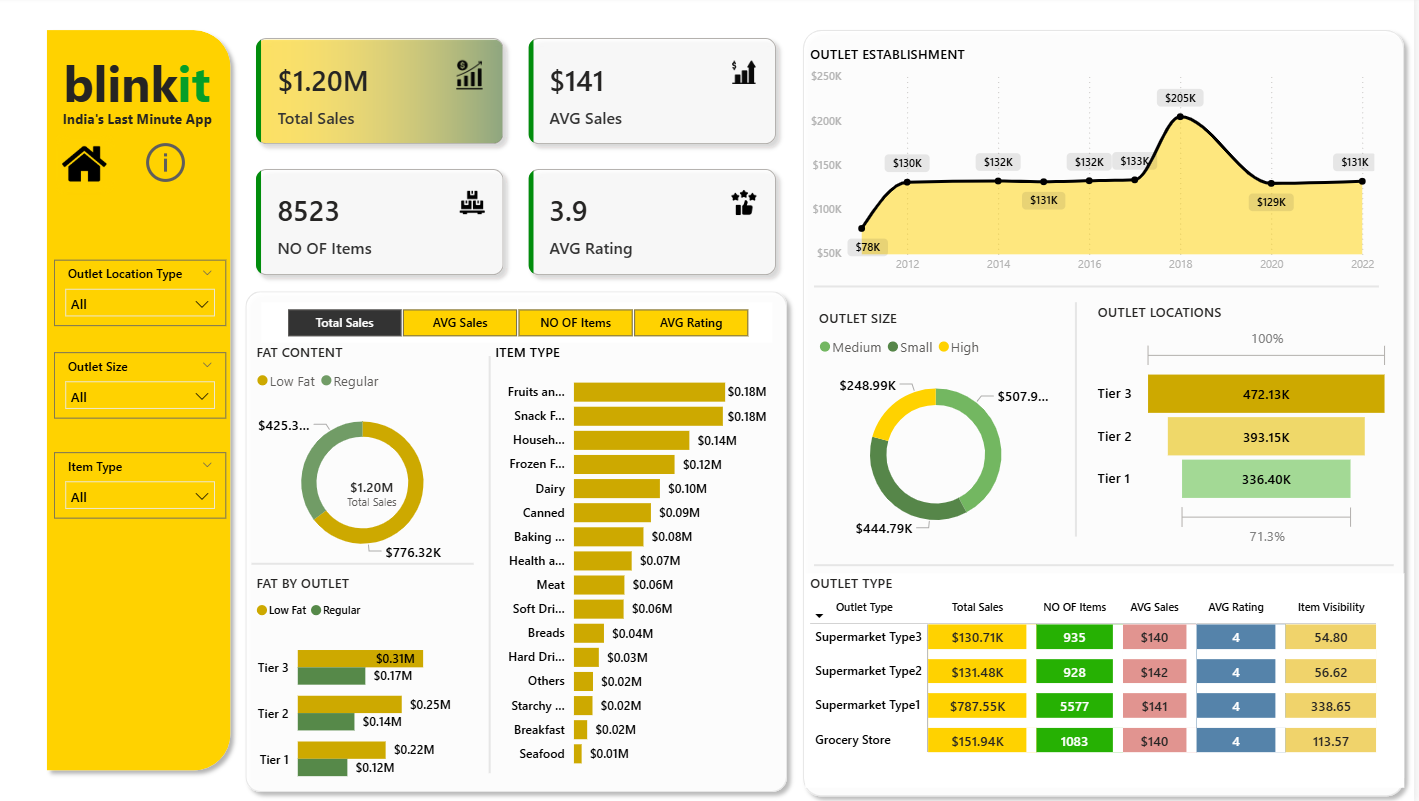

What the dashboard file says about the page in this screenshot:
{"tool":"powerbi","page":{"name":"Page 1","canvas":[1400,800],"ordinal":0},"visuals":[{"type":"shape","box":[38.9,24.1,199.7,750.7],"z":0},{"type":"textbox","box":[52.3,48.3,168.9,77.7],"z":1000},{"type":"textbox","box":[37.5,107.2,199.7,28.2],"z":2000},{"type":"cardVisual","fields":{"Data":["BlinkIT Grocery Data.Total Sales","BlinkIT Grocery Data.AVG Sales","BlinkIT Grocery Data.NO OF Items","BlinkIT Grocery Data.AVG Rating"]},"box":[237.3,24.1,549.6,269.4],"z":3000},{"type":"shape","box":[234.6,282.8,553.6,513.4],"z":4000},{"type":"slicer","fields":{"Values":["Metrics.Metrics"]},"box":[260.1,303,505.4,40.2],"z":5000},{"type":"donutChart","title":"FAT CONTENT","fields":{"Y":["BlinkIT Grocery Data.Total Sales"],"Category":["BlinkIT Grocery Data.Item Fat Content"]},"box":[249.3,343.2,219.8,230.6],"z":6000},{"type":"cardVisual","fields":{"Data":["BlinkIT Grocery Data.Total Sales"]},"box":[289.5,451.7,159.5,81.8],"z":7000},{"type":"clusteredBarChart","title":"FAT BY OUTLET","fields":{"Y":["BlinkIT Grocery Data.Total Sales"],"Category":["BlinkIT Grocery Data.Outlet Location Type"],"Series":["BlinkIT Grocery Data.Item Fat Content"]},"box":[249.3,571,219.8,225.2],"z":8000},{"type":"shape","box":[249.3,550.9,219.8,22.8],"z":9000},{"type":"shape","box":[469.2,356.6,33.5,412.9],"z":10000},{"type":"barChart","title":"ITEM TYPE","fields":{"Y":["BlinkIT Grocery Data.Total Sales"],"Category":["BlinkIT Grocery Data.Item Type"]},"box":[486.6,343.2,278.8,431.6],"z":11000},{"type":"shape","box":[786.9,24.1,612.6,776.1],"z":12000},{"type":"lineChart","title":"OUTLET ESTABLISHMENT ","fields":{"Category":["BlinkIT Grocery Data.Outlet Establishment Year"],"Y":["BlinkIT Grocery Data.Total Sales"]},"box":[797.6,48.3,568.4,234.6],"z":13000},{"type":"shape","box":[807,280.2,559,13.4],"z":14000},{"type":"donutChart","title":"OUTLET SIZE","fields":{"Y":["BlinkIT Grocery Data.Total Sales"],"Category":["BlinkIT Grocery Data.Outlet Size"]},"box":[807,309.7,241.3,241.3],"z":15000},{"type":"shape","box":[1048.3,303,33.5,231.9],"z":16000},{"type":"funnel","title":"OUTLET LOCATIONS","fields":{"Y":["Sum(BlinkIT Grocery Data.Sales)"],"Category":["BlinkIT Grocery Data.Outlet Location Type"]},"box":[1081.8,303,298.9,248],"z":17000},{"type":"shape","box":[807,557.6,573.7,10.7],"z":18000},{"type":"pivotTable","title":"OUTLET TYPE","fields":{"Rows":["BlinkIT Grocery Data.Outlet Type"],"Values":["BlinkIT Grocery Data.Total Sales","BlinkIT Grocery Data.NO OF Items","BlinkIT Grocery Data.AVG Sales","BlinkIT Grocery Data.AVG Rating","Sum(BlinkIT Grocery Data.Item Visibility)"]},"box":[797.6,571,592.5,211.8],"z":19000},{"type":"slicer","fields":{"Values":["BlinkIT Grocery Data.Outlet Location Type"]},"box":[54.3,261.4,170,65.7],"z":20000},{"type":"slicer","fields":{"Values":["BlinkIT Grocery Data.Outlet Size"]},"box":[54.3,352.9,170,65.7],"z":21000},{"type":"slicer","fields":{"Values":["BlinkIT Grocery Data.Item Type"]},"box":[54.3,451.4,170,65.7],"z":22000},{"type":"actionButton","box":[54.3,135.7,60,60],"z":23000},{"type":"actionButton","box":[140,140,100,50],"z":24000}]}

Visuals, with their boxes in screenshot pixels (x1, y1, x2, y2), scaled from the page's 1400x800 canvas onto the 1419x801 screenshot:
shape: select_region(39, 24, 242, 776)
textbox: select_region(53, 48, 224, 126)
textbox: select_region(38, 107, 240, 136)
cardVisual - BlinkIT Grocery Data.Total Sales x BlinkIT Grocery Data.AVG Sales: select_region(241, 24, 798, 294)
shape: select_region(238, 283, 799, 797)
slicer - Metrics.Metrics: select_region(264, 303, 776, 344)
"FAT CONTENT" donutChart: select_region(253, 344, 475, 575)
cardVisual - BlinkIT Grocery Data.Total Sales: select_region(293, 452, 455, 534)
"FAT BY OUTLET" clusteredBarChart: select_region(253, 572, 475, 797)
shape: select_region(253, 552, 475, 574)
shape: select_region(476, 357, 510, 770)
"ITEM TYPE" barChart: select_region(493, 344, 776, 776)
shape: select_region(798, 24, 1418, 800)
"OUTLET ESTABLISHMENT " lineChart: select_region(808, 48, 1385, 283)
shape: select_region(818, 281, 1385, 294)
"OUTLET SIZE" donutChart: select_region(818, 310, 1063, 552)
shape: select_region(1063, 303, 1096, 536)
"OUTLET LOCATIONS" funnel: select_region(1096, 303, 1399, 552)
shape: select_region(818, 558, 1399, 569)
"OUTLET TYPE" pivotTable: select_region(808, 572, 1409, 784)
slicer - BlinkIT Grocery Data.Outlet Location Type: select_region(55, 262, 227, 328)
slicer - BlinkIT Grocery Data.Outlet Size: select_region(55, 353, 227, 419)
slicer - BlinkIT Grocery Data.Item Type: select_region(55, 452, 227, 518)
actionButton: select_region(55, 136, 116, 196)
actionButton: select_region(142, 140, 243, 190)
